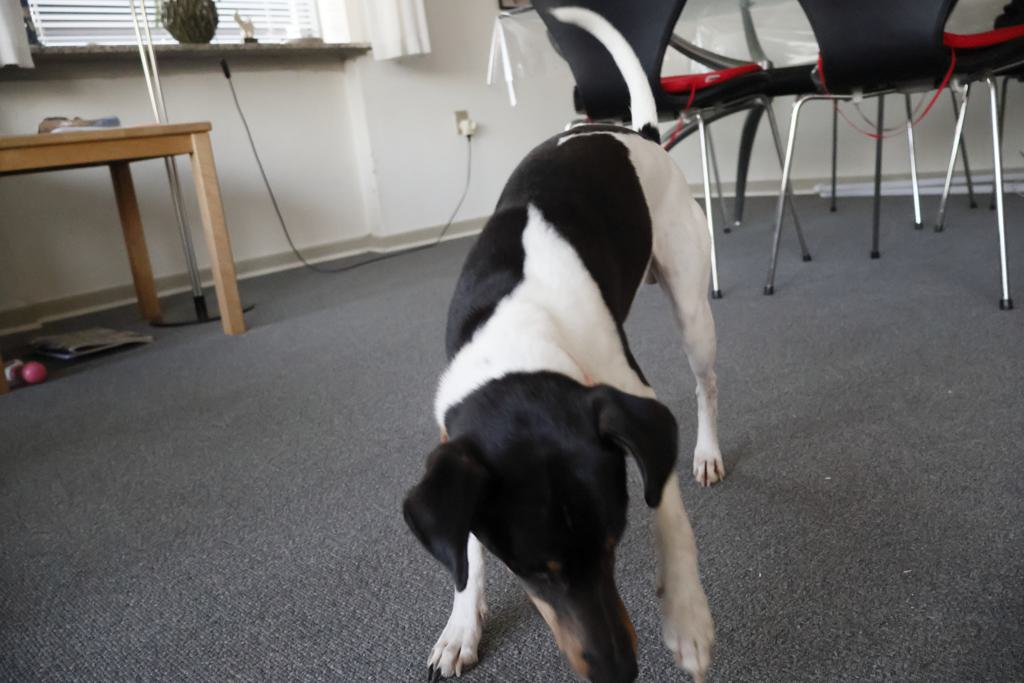Dog: (394, 0, 740, 683)
